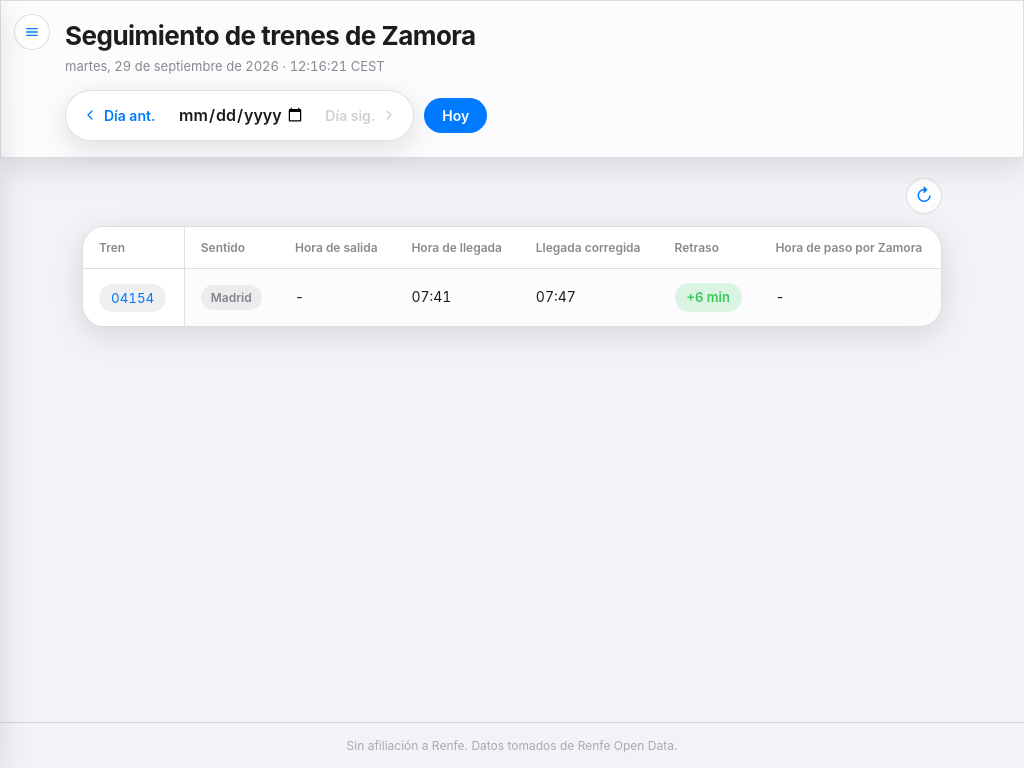
App › 'Día sig.' from the most recent dumped day (maxDate) returns to today's live view
The image size is (1024, 768).
Expected: the button "04154" is shown, [99,284,166,312]
Click the button "Día ant.". click: [119, 115]
box: [70,99,167,132]
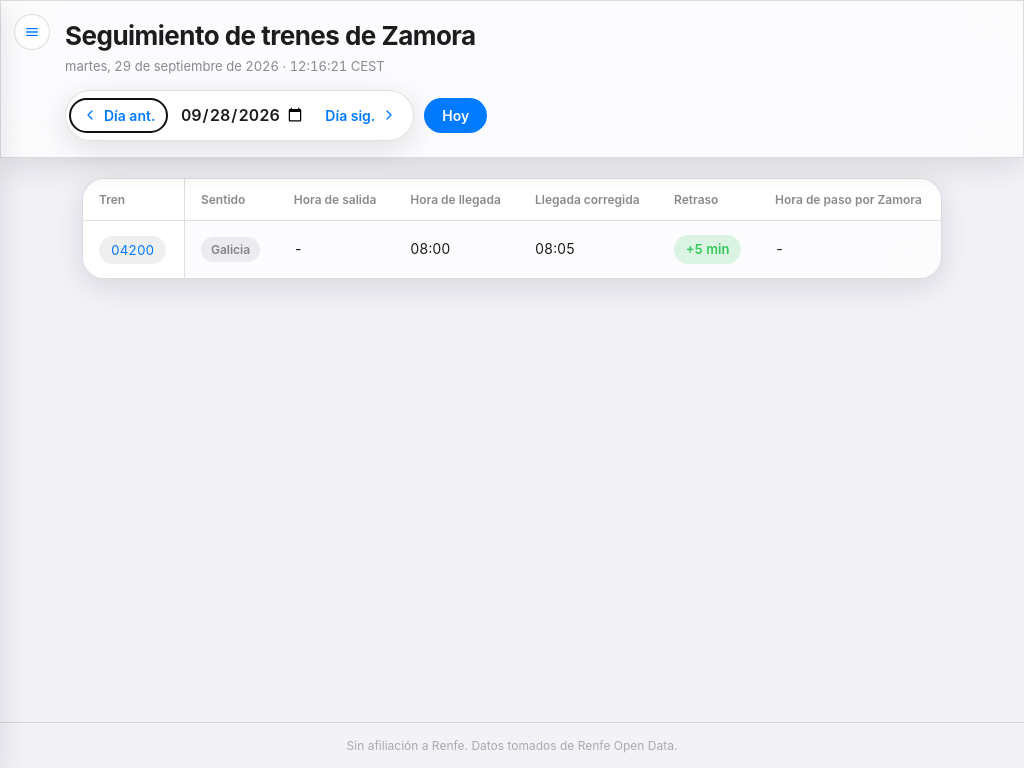
Expected: the button "04200" is shown, [99,236,166,264]
Click the button "Día sig.". click: [361, 115]
box: [313,99,409,132]
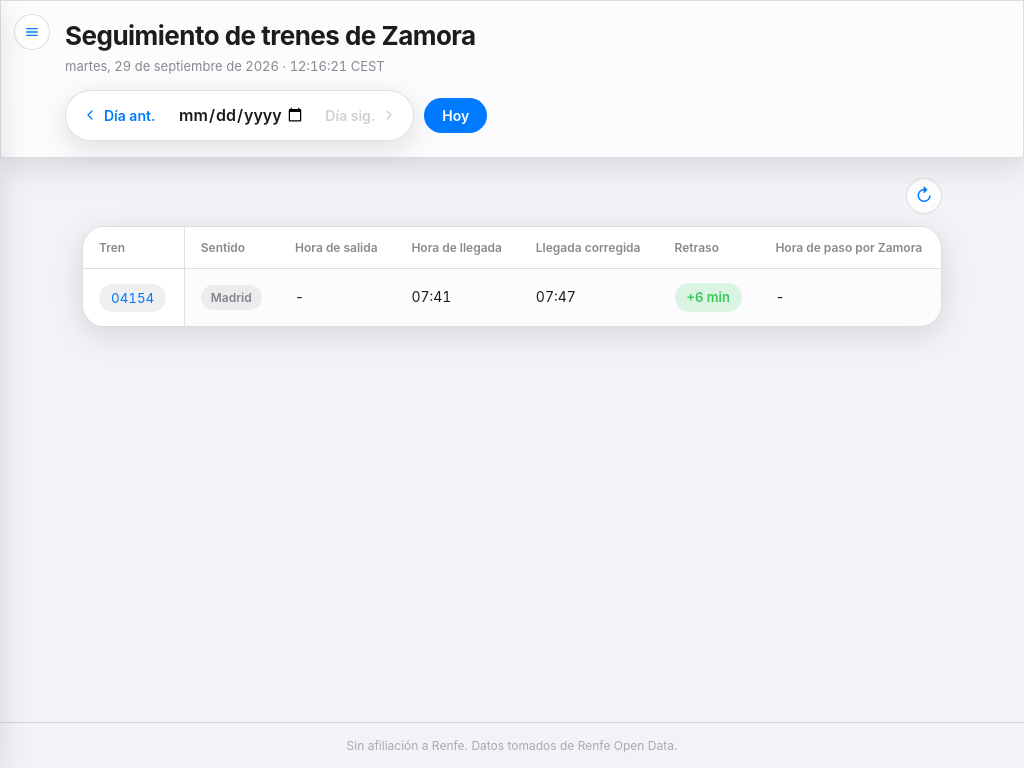
Expected: the button "04154" is shown, [99,284,166,312]
Expected: the date field named "fecha" is empty, [169,94,311,136]
Expected: the button "Día sig." is disabled, [313,99,409,132]
